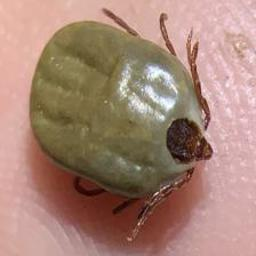Rhipicephalus sanguineus: (29, 8, 212, 242)
